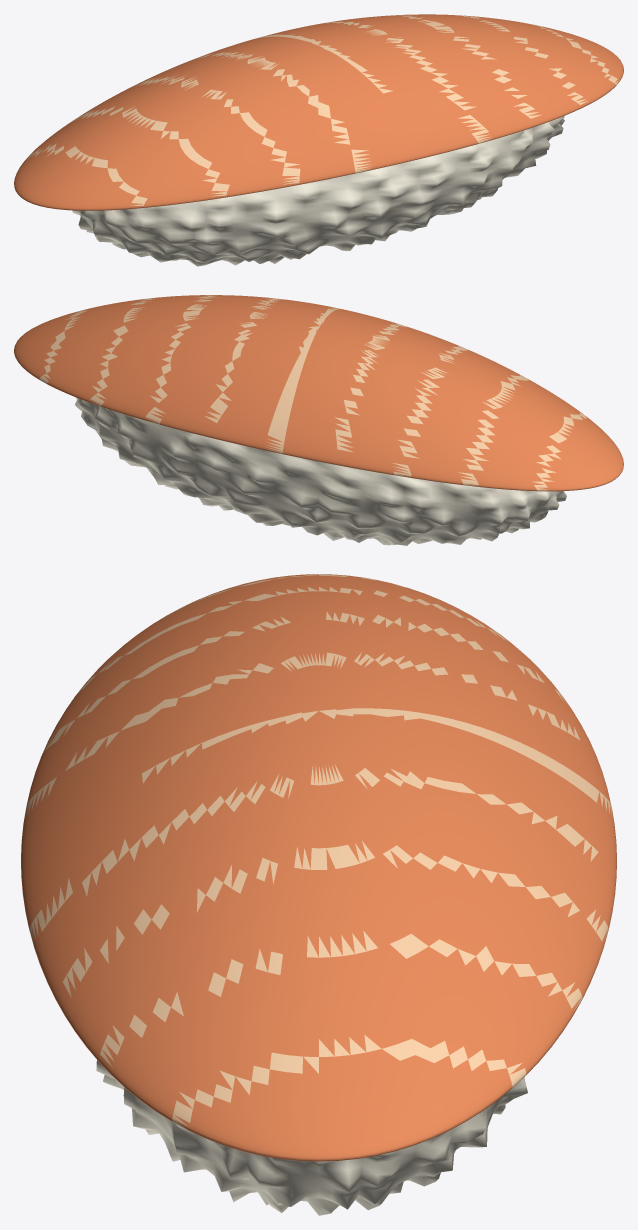
3 renders of one model, top to bottom at view 1: azimuth 30°, elevation 25°; view 2: azimuth 150°, elevation 25°; view 3: azimuth 270°, elevation 25°, orthographic. The views are drawn at different scales.
Visible parts, largest first — view 1: NEW320_fish, NEW320_rice; view 2: NEW320_fish, NEW320_rice; view 3: NEW320_fish, NEW320_rice.
Part boxes in pixels (bbox=[...]): NEW320_fish: bbox=[14, 14, 623, 210]; NEW320_rice: bbox=[72, 116, 564, 266]; NEW320_fish: bbox=[14, 295, 623, 491]; NEW320_rice: bbox=[75, 397, 566, 545]; NEW320_fish: bbox=[21, 574, 616, 1161]; NEW320_rice: bbox=[96, 1060, 527, 1215].
Bounding box in the file's own units: 0.068 × 0.0212 × 0.0297.
